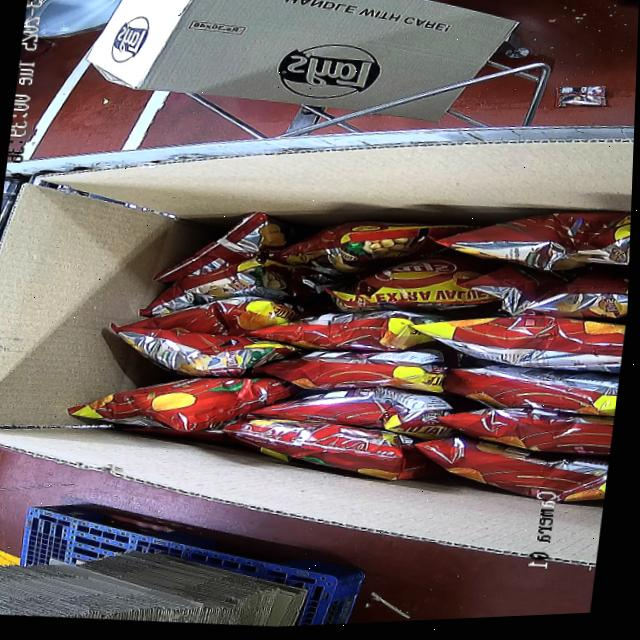MASALA: (57, 164, 633, 528)
